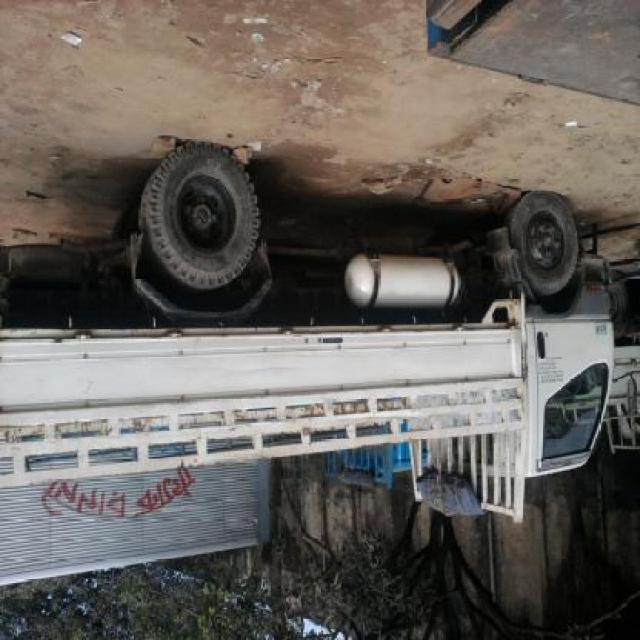truck: (1, 149, 615, 524)
